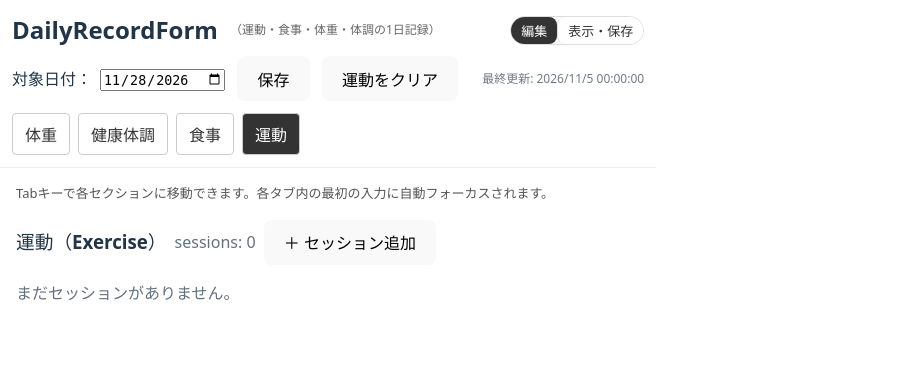
Test: DailyRecordForm and WeightEditor integration › restores saved values after save response without stale drafts and keeps edits committed during in-flight save
Expected: the button "保存" is enabled, [237,56,310,101]
Click the tab "体重": (41, 134) [12,113,70,155]
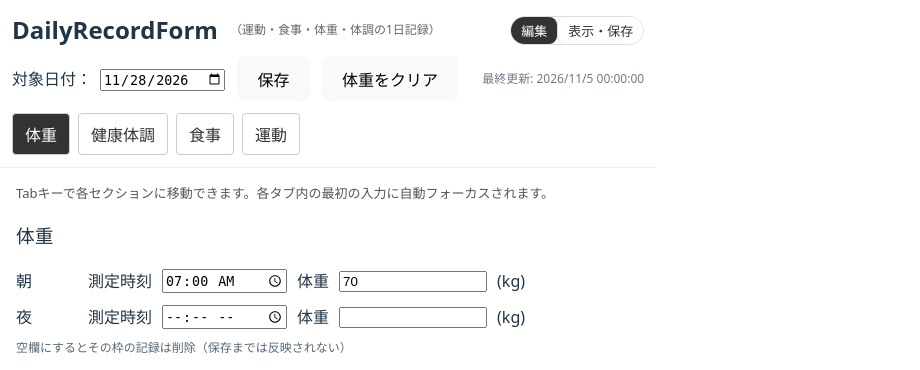
Note: Commit normalized value, save, and confirm saved value is shown without stale draft.
Replace the text in the 1st field with " ７０．２０ ": (413, 281) [339,271,487,292]
Leave the 1st field, box [339,271,487,292]
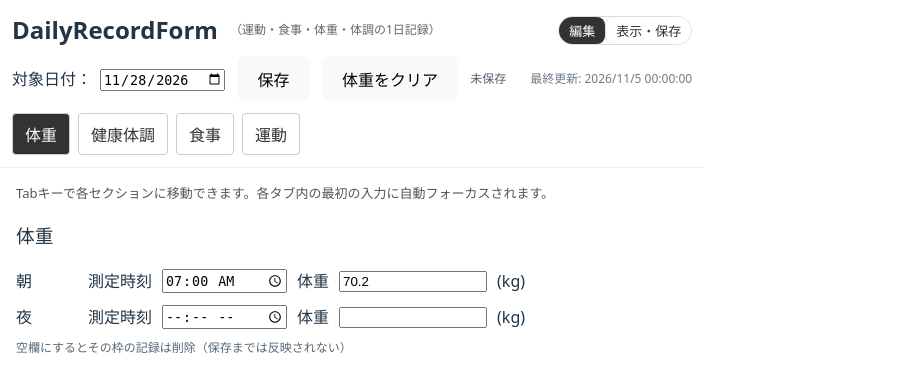
Expected: the 1st field holds "70.2", [339,271,487,292]
Click the button "保存": (274, 79) [237,56,310,101]
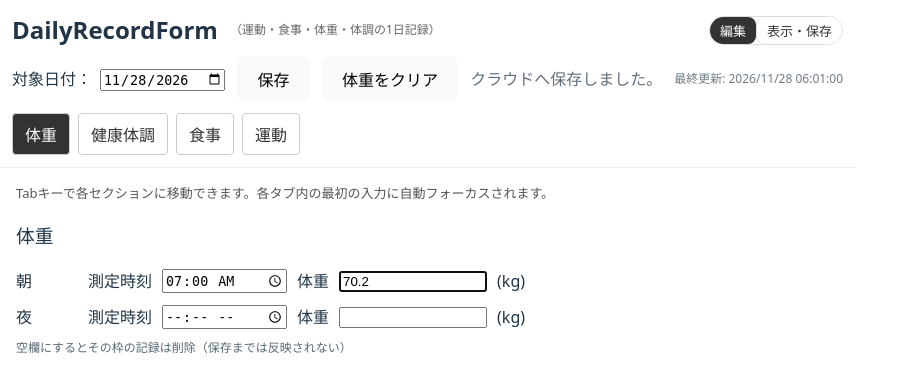
Expected: the 1st field holds "70.2", [339,271,487,292]
Expected: the text "クラウドへ保存しました。" is shown, [470,67,662,91]
Click the button "保存": (274, 79) [237,56,310,101]
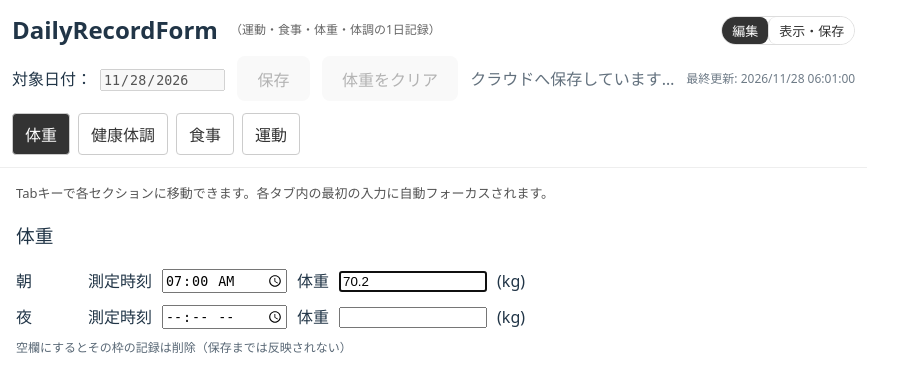
Expected: the text "クラウドへ保存しています…" is shown, [470,67,674,91]
Replace the text in the 1st field with "70.9": (413, 281) [339,271,487,292]
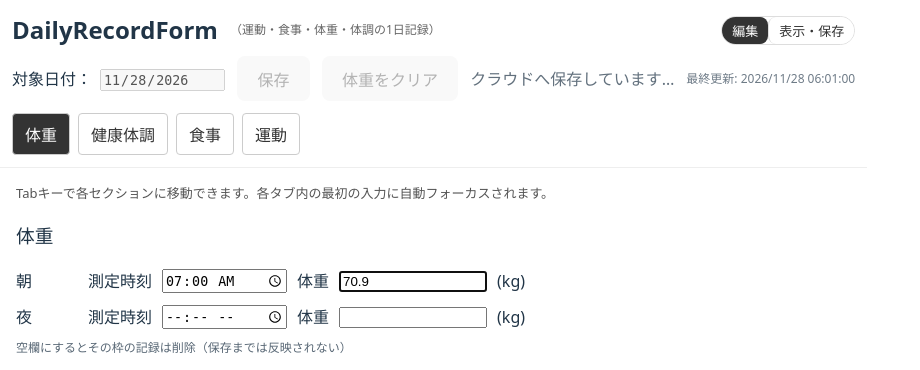
Leave the 1st field, box [339,271,487,292]
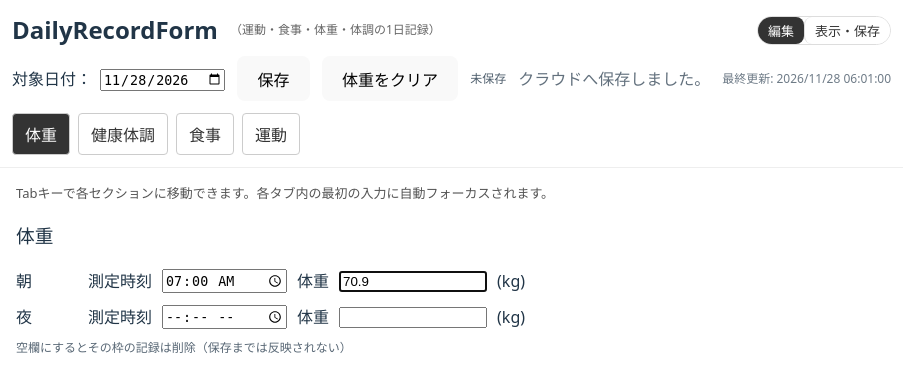
Expected: the text "クラウドへ保存しました。" is shown, [518,67,710,91]
